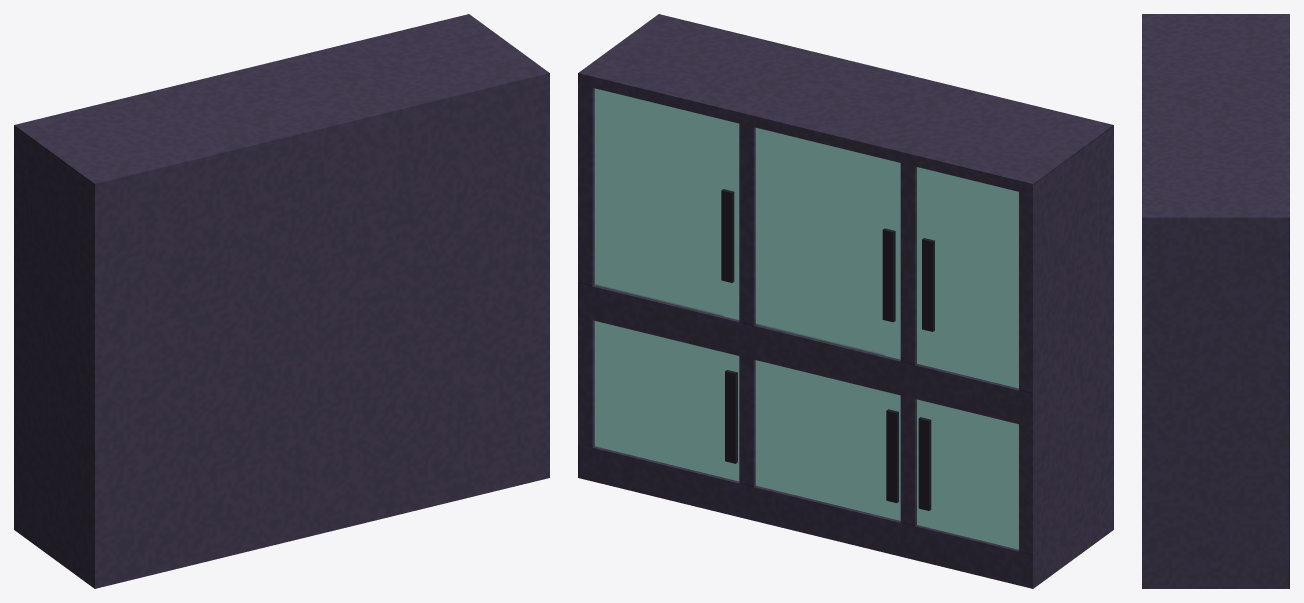
File: bar_alkochol.dae
3 renders of one model, left to right at view 1: azimuth 30°, elevation 25°; view 2: azimuth 150°, elevation 25°; view 3: azimuth 270°, elevation 25°, orthographic. The views are drawn at different scales.
Visible parts, largest first — view 1: Content; view 2: Content; view 3: Content.
Part boxes in pixels (<box>): Content: <box>14,14,549,588</box>; Content: <box>578,14,1113,588</box>; Content: <box>1142,14,1289,588</box>.
Bounding box in the file's own units: 127 × 108 × 39.
Materials: 1 (1 with a texture image).
